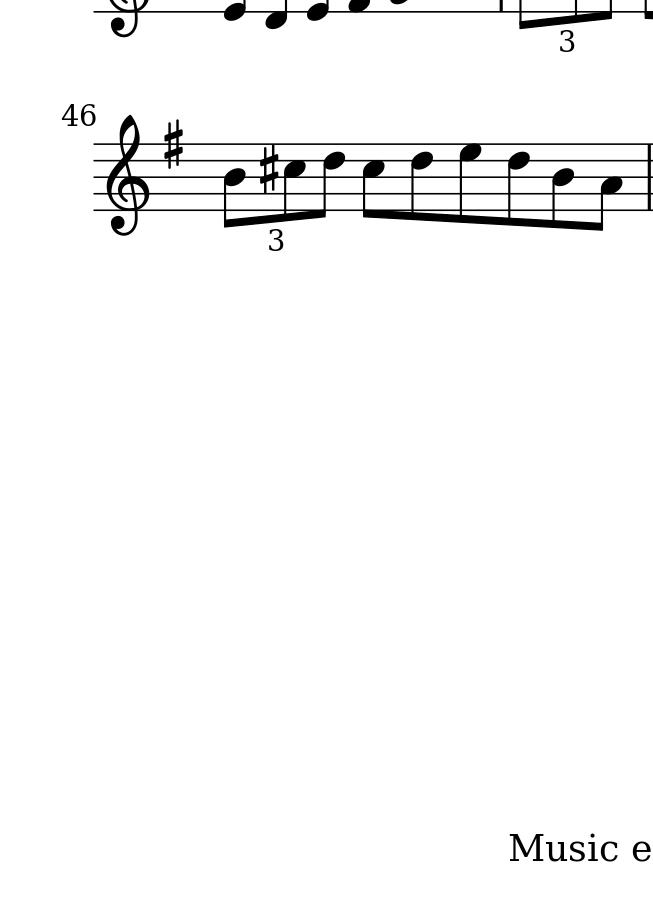3: (264, 225, 288, 254)
4: (59, 100, 79, 131)
6: (79, 99, 96, 128)
8_3: (593, 141, 624, 235)
8_4: (548, 142, 576, 231), (223, 139, 244, 230)
8_5: (281, 142, 306, 224), (361, 141, 386, 223)
8_6: (311, 143, 346, 219), (504, 141, 532, 229), (407, 141, 435, 224)
8_7: (456, 142, 483, 227)
Gclef: (104, 113, 150, 235)
Sharp: (163, 119, 185, 170), (260, 142, 280, 194)
Single_barline: (642, 147, 653, 209), (494, 1, 509, 13)
